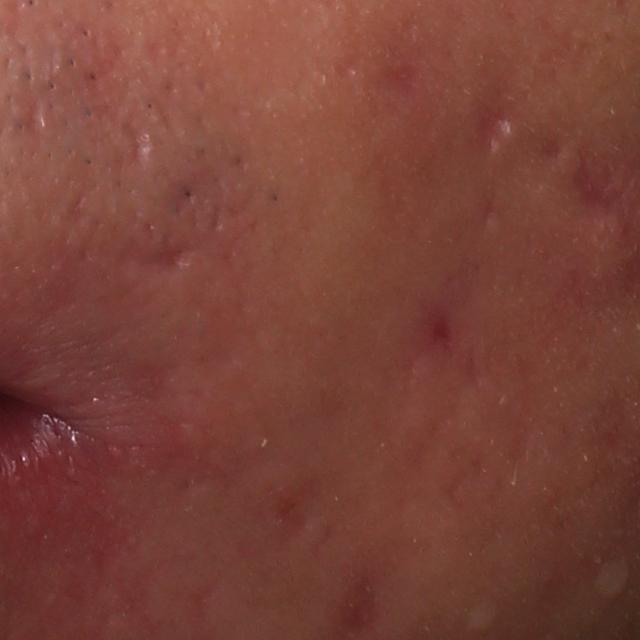atrophic_scar: (401, 265, 471, 378), (472, 103, 517, 157), (143, 232, 203, 270), (124, 114, 153, 171)
other: (588, 552, 637, 607), (458, 593, 504, 638)
